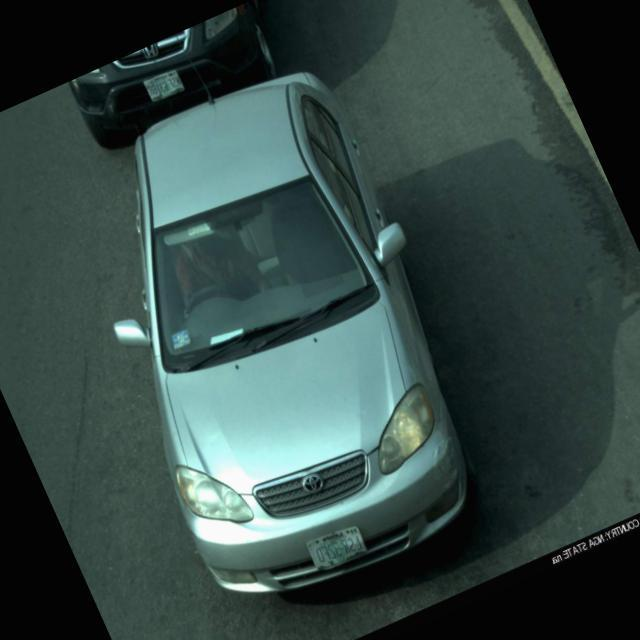windshield: (145, 175, 386, 379)
